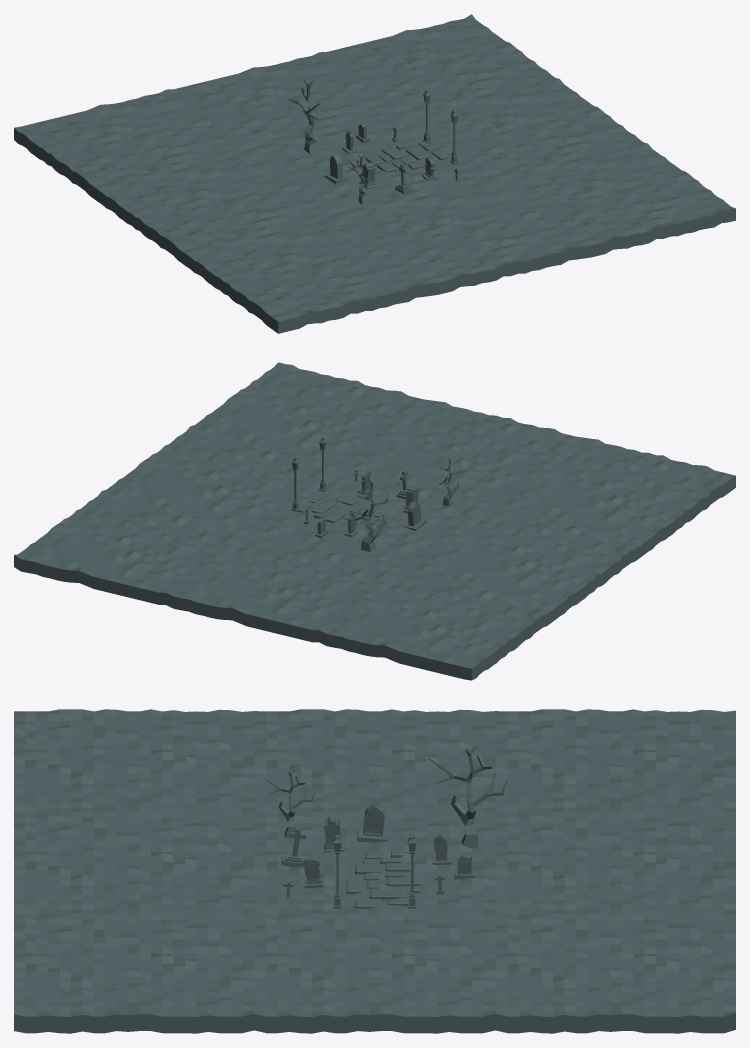
The model's file is graveyard.fbx.
3 views of the same model, one above another, from view 1: azimuth 30°, elevation 25°; view 2: azimuth 150°, elevation 25°; view 3: azimuth 270°, elevation 25° (orthographic). The views are drawn at different scales.
Parts seen in each view (by area): view 1: Plane.006, Cube.012; view 2: Plane.006, Cube.012; view 3: Plane.006, Cube.012, Cube.011, Cube.008.
Boxes of the visible parts, x1,y1,x2,y2 form: Plane.006: [14, 14, 735, 333]; Cube.012: [289, 79, 320, 153]; Plane.006: [14, 362, 735, 680]; Cube.012: [354, 476, 390, 551]; Plane.006: [14, 709, 735, 1033]; Cube.012: [427, 745, 508, 848]; Cube.011: [357, 804, 387, 842]; Cube.008: [264, 769, 315, 838].
Bounding box in the file's own units: 2994 × 523 × 2994.
